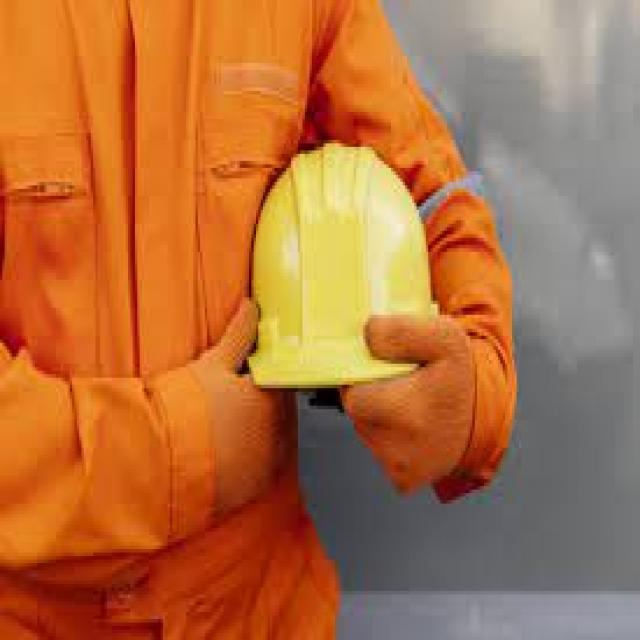Safety-Helmet: (231, 129, 458, 406)
